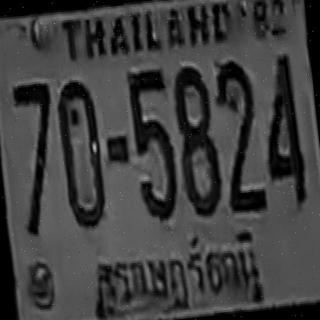N00: (54, 77, 108, 229)
N02: (213, 59, 266, 214), (212, 58, 264, 204)
N04: (256, 51, 308, 206)
N05: (126, 67, 180, 222)
N07: (11, 80, 64, 237), (11, 80, 59, 188)
N08: (170, 62, 223, 217)
P67: (86, 224, 266, 317)
